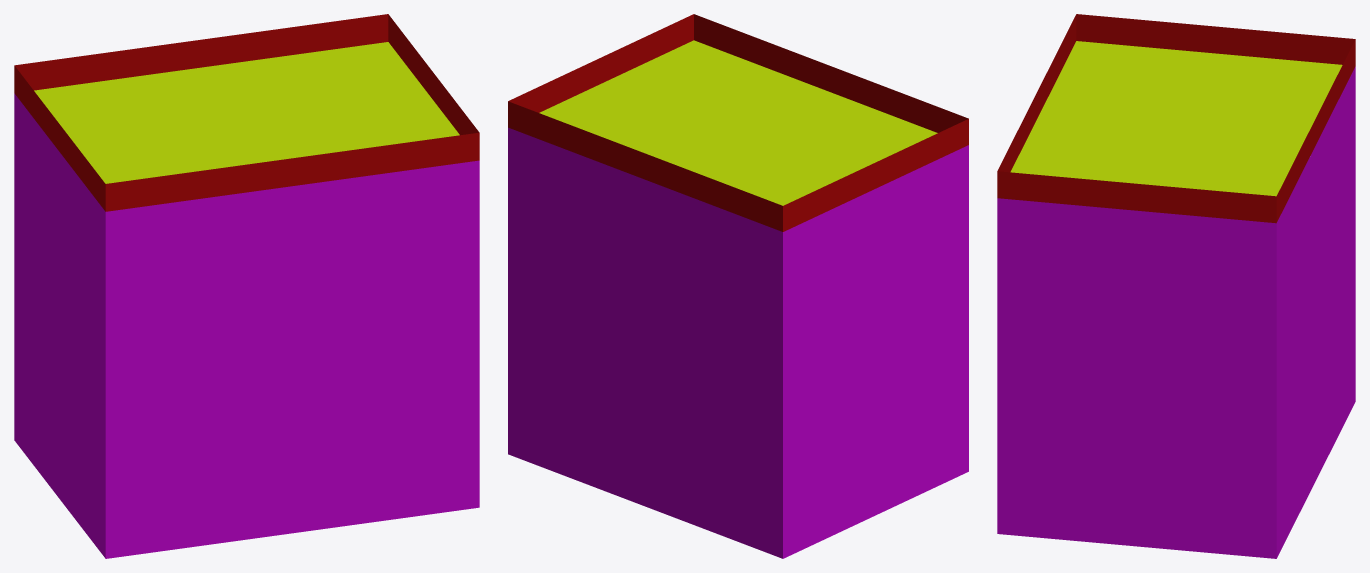
The model's file is rmc_32.glb.
The picture shows the model from 3 angles, left to right: view 1: azimuth 30°, elevation 25°; view 2: azimuth 150°, elevation 25°; view 3: azimuth 270°, elevation 25°; orthographic projection. The views are drawn at different scales.
Parts seen in each view (by area): view 1: rmc_32; view 2: rmc_32; view 3: rmc_32.
Part boxes in pixels (left/top/right/bottom): rmc_32: left=14, top=14, right=479, bottom=558; rmc_32: left=508, top=14, right=968, bottom=558; rmc_32: left=997, top=14, right=1355, bottom=558.
Size of the model in its own units: 5.07 by 4.71 by 4.21.
